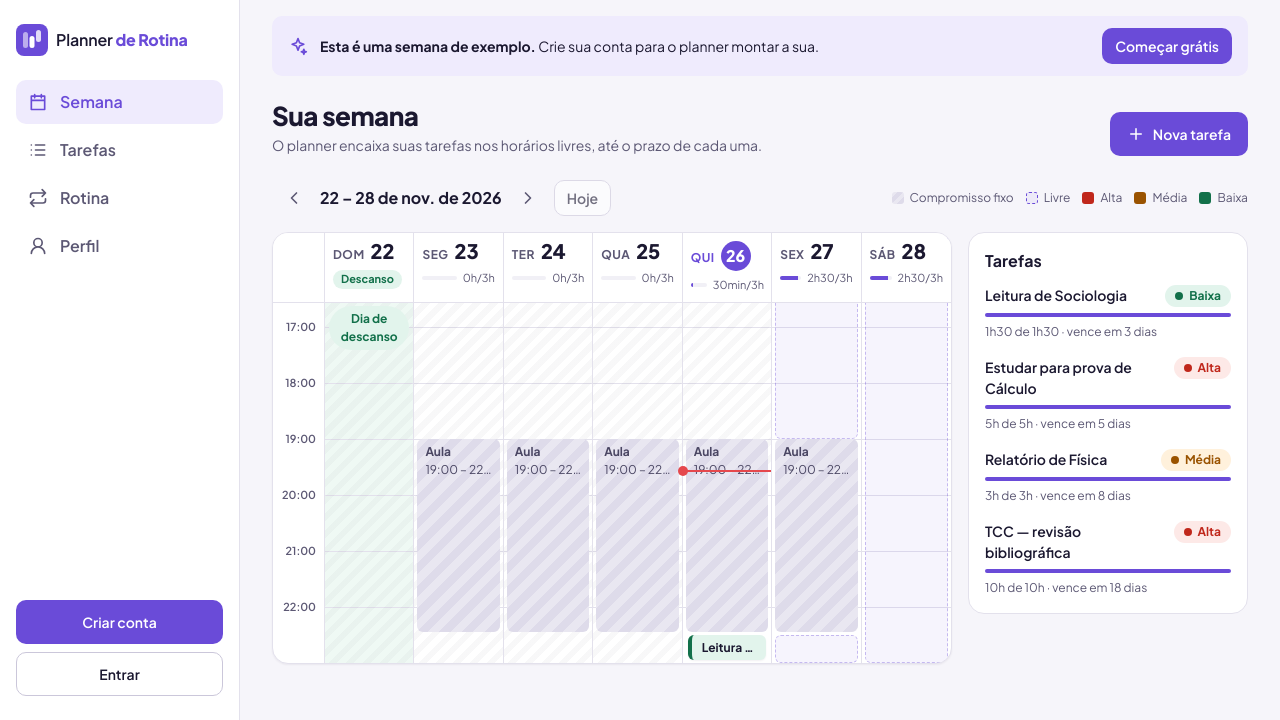
Test case: login (RF01) › recuperar senha envia o link
(page scrolled)
Click the button "Entrar" at coordinates (120, 674), box 16,652 -> 223,696
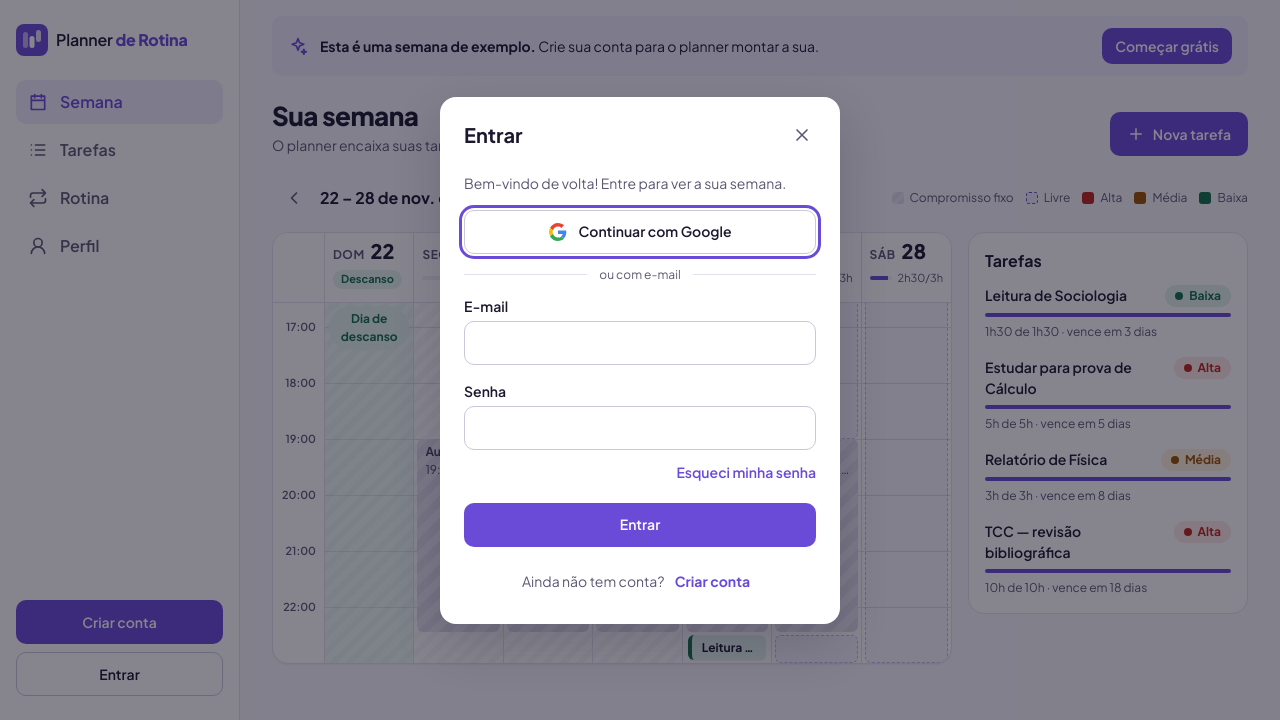
Click the button "Esqueci minha senha" at coordinates (746, 472), box 676,458 -> 816,486
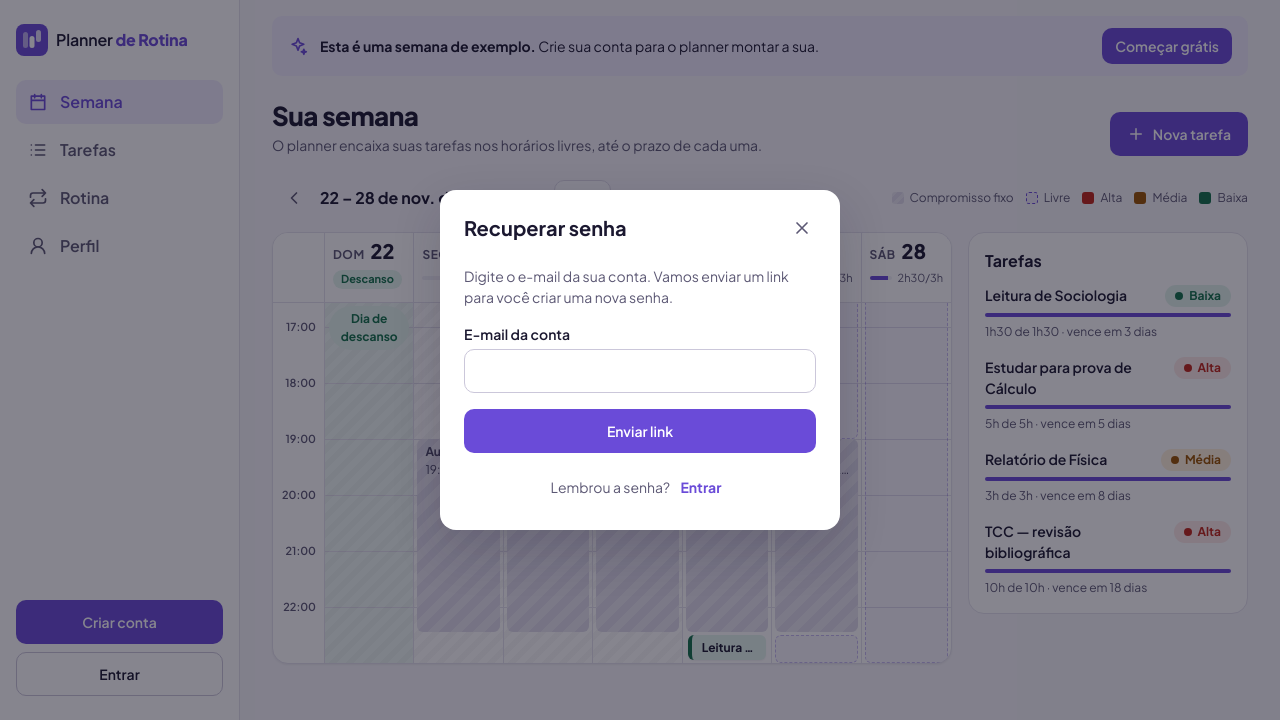
Type "ana@teste.com" into the field labelled "E-mail da conta" at coordinates (640, 371), box 464,349 -> 816,393
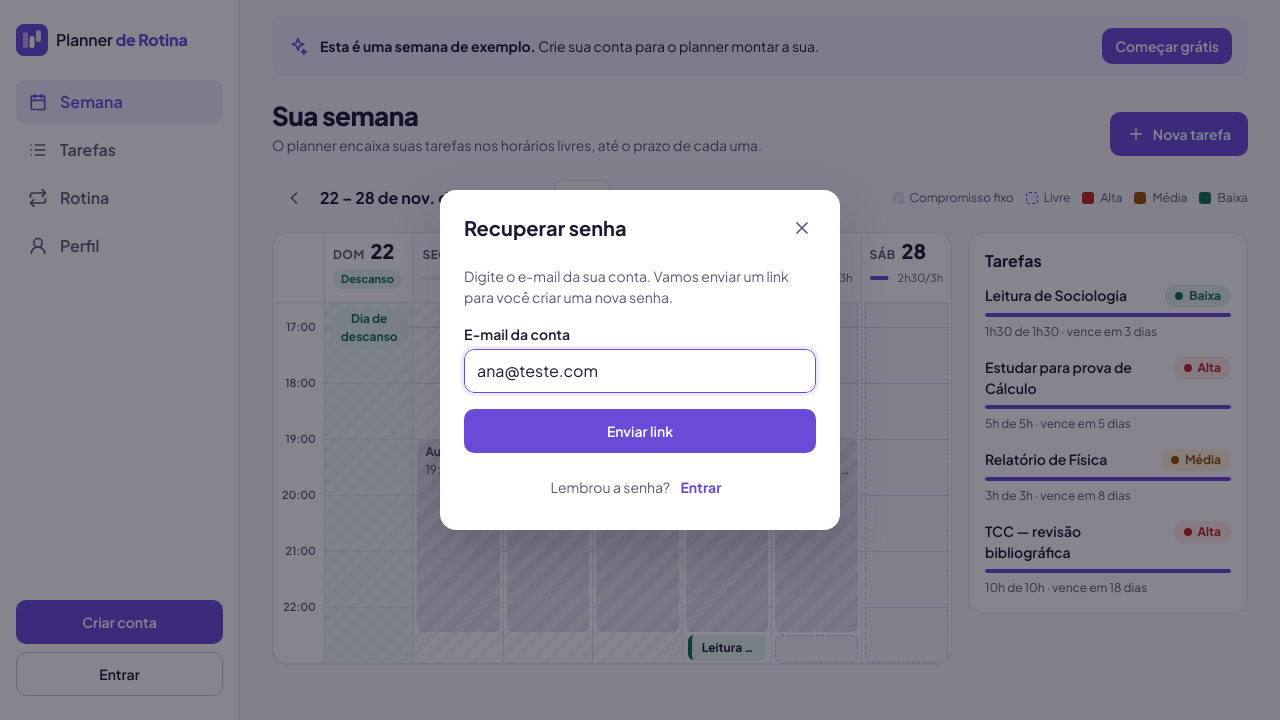
Click the button "Enviar link" at coordinates (640, 431), box 464,409 -> 816,453
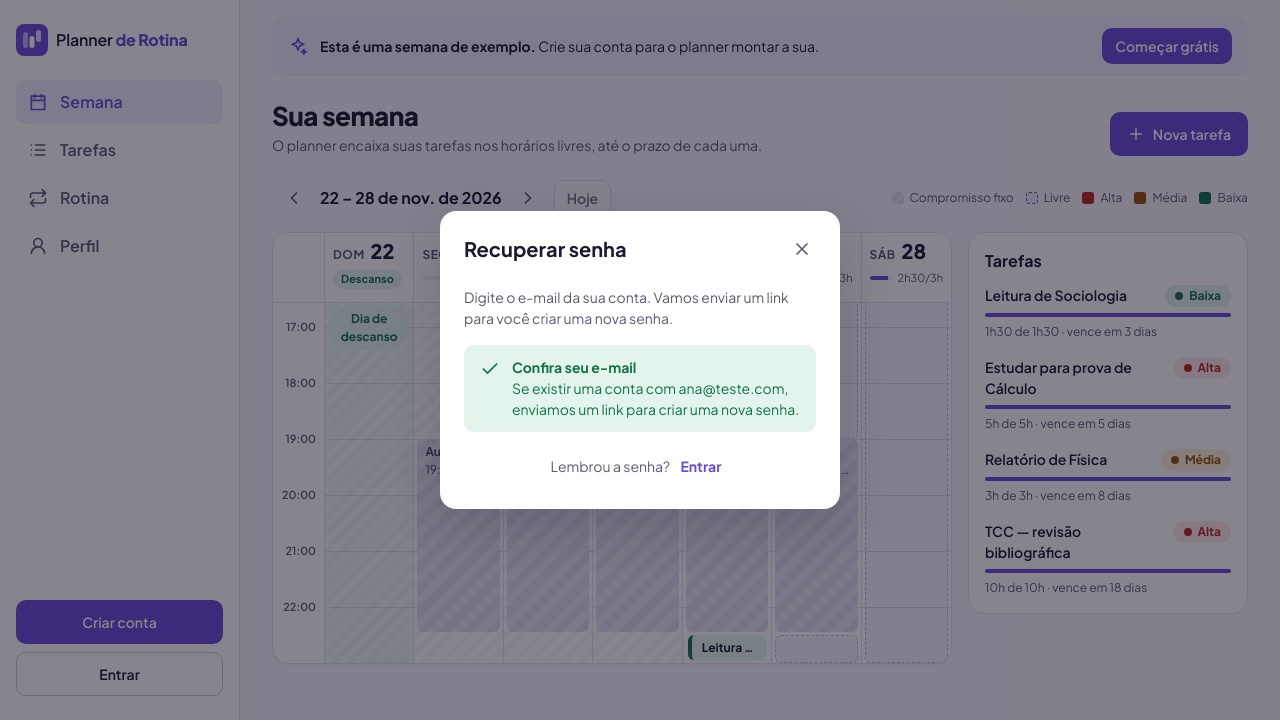
Expected: the text "Confira seu e-mail" is shown, 512,358 -> 636,376
